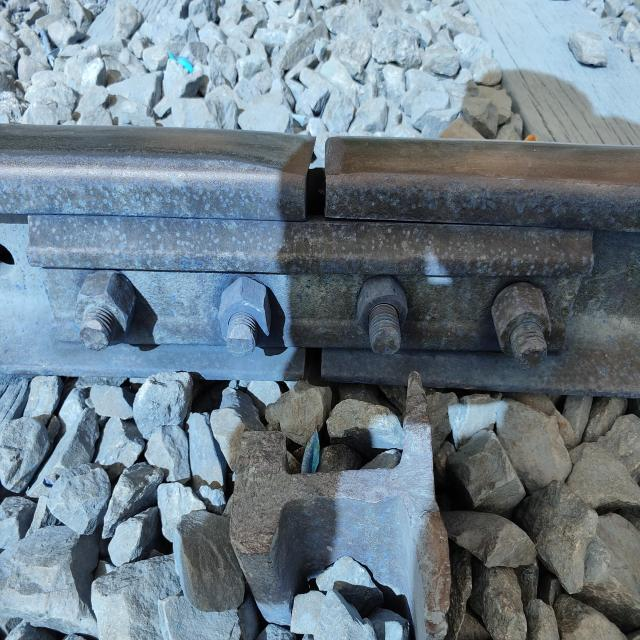Good Joint: (18, 119, 617, 413)
